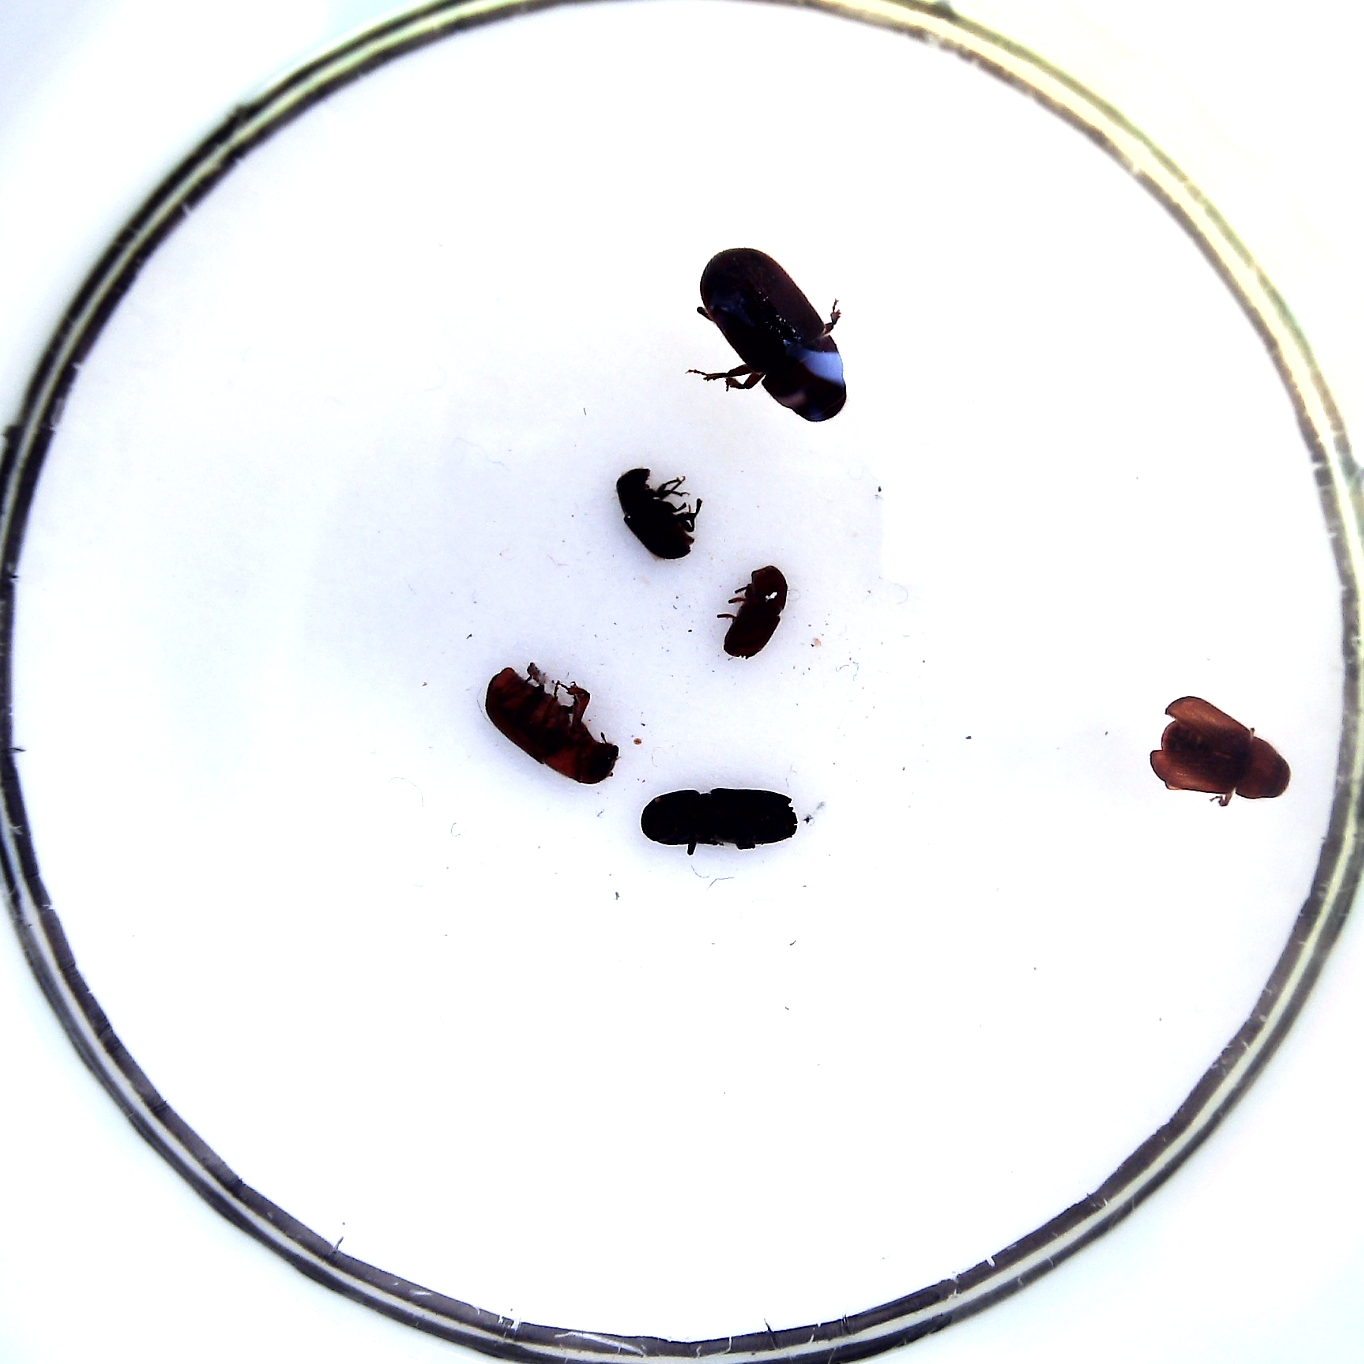Boerner: (640, 787, 798, 849)
Leconte: (699, 247, 846, 422), (483, 668, 620, 783), (1150, 694, 1289, 799)
armandi: (616, 468, 694, 560)
linnaeus: (724, 566, 788, 658)
